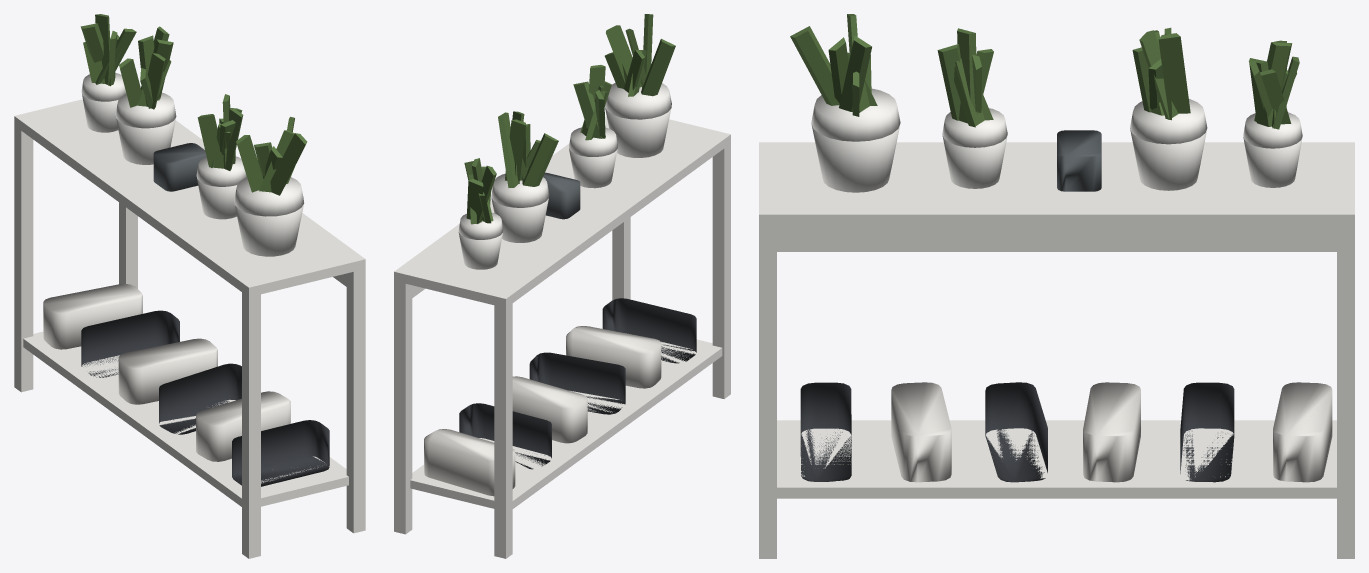
The model's file is rios_console.glb.
The picture shows the model from 3 angles, left to right: view 1: azimuth 30°, elevation 25°; view 2: azimuth 150°, elevation 25°; view 3: azimuth 270°, elevation 25°; orthographic projection. The views are drawn at different scales.
Visible parts, largest first — view 1: root; view 2: root; view 3: root.
Boxes of the visible parts, left/top/right/bottom form: root: left=14, top=14, right=365, bottom=558; root: left=394, top=14, right=730, bottom=558; root: left=759, top=14, right=1354, bottom=558.
Size of the model in its own units: 0.3505 by 1.13 by 1.22.
